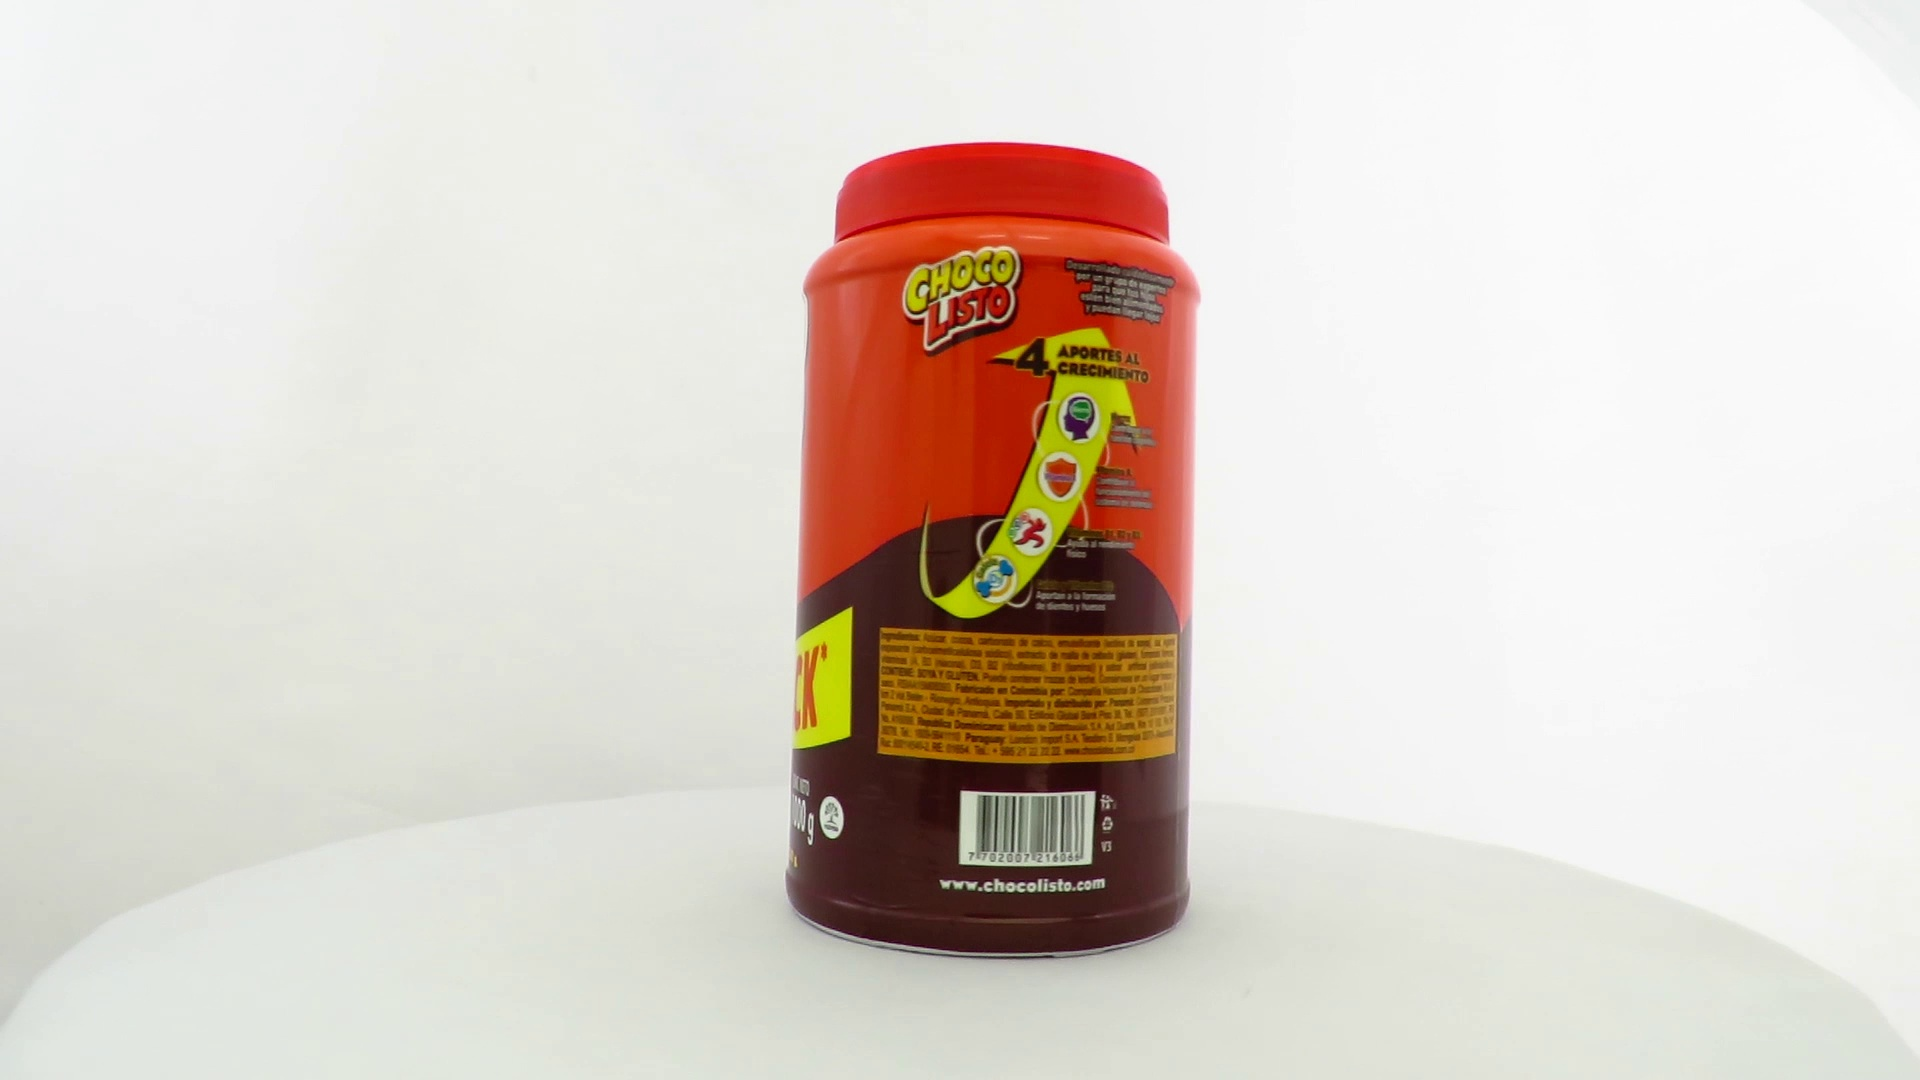COL0170103TRR00100: (781, 137, 1207, 967)
